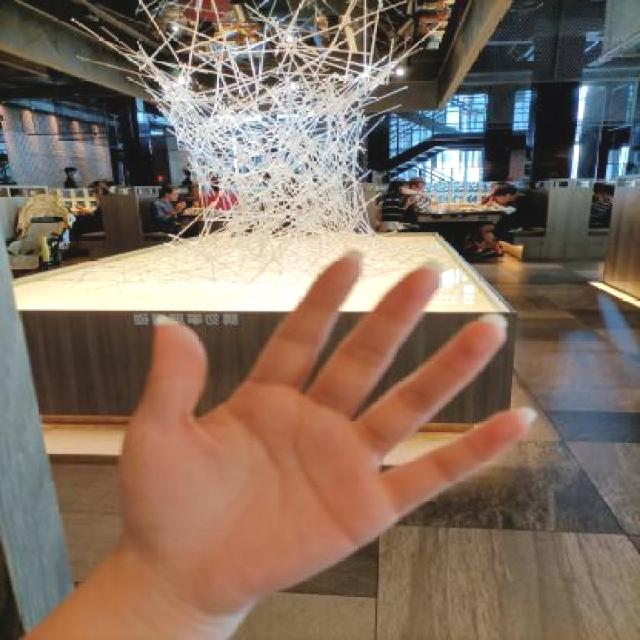no_glove: (69, 230, 569, 622)
